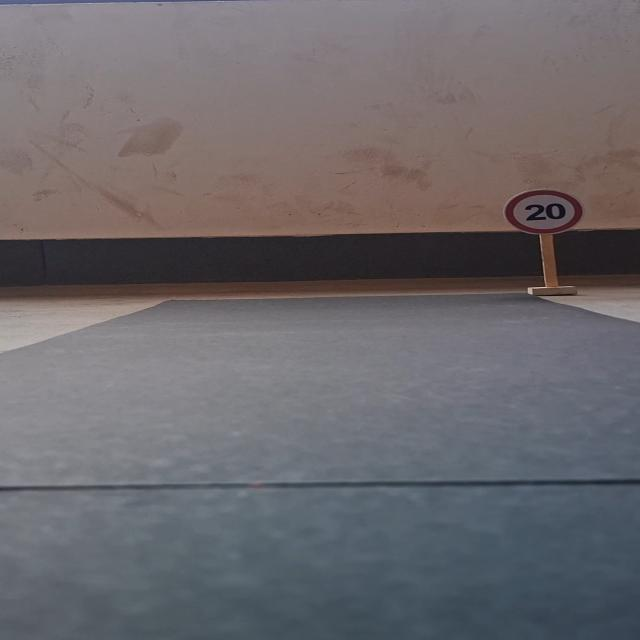Speed20: (490, 182, 593, 240)
